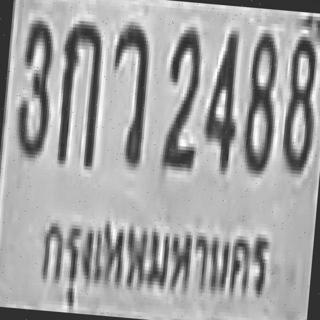A01: (53, 16, 104, 166)
A37: (104, 20, 151, 164)
N02: (160, 21, 203, 168)
N03: (12, 16, 55, 155)
N04: (198, 23, 242, 170)
N08: (239, 29, 280, 171), (278, 32, 319, 171)
P04: (30, 198, 284, 320)
